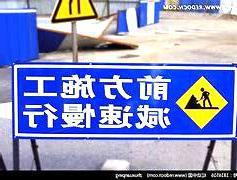sign: (13, 63, 236, 138)
